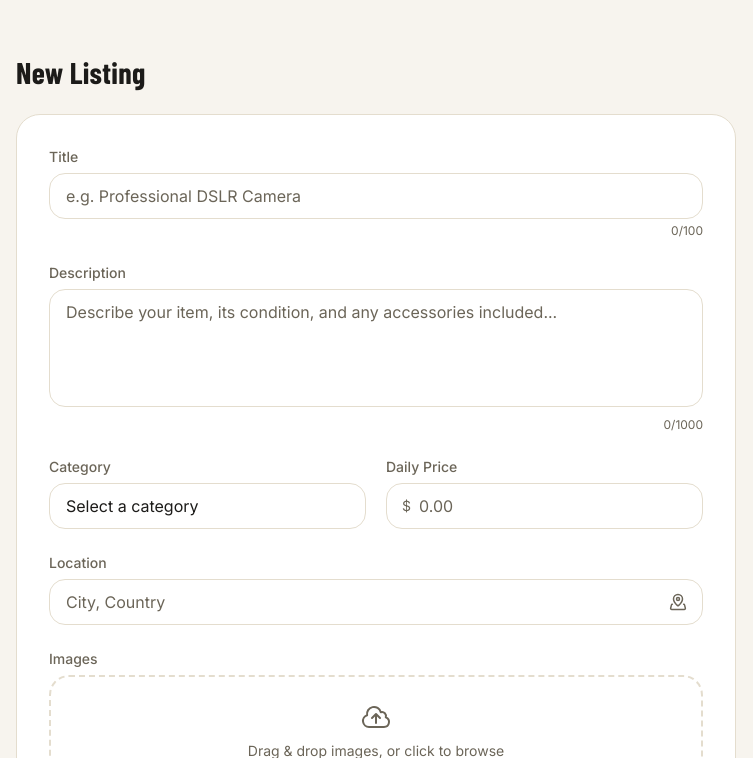
Test: NewListingPage › shows validation error when description is too short
Type "Valid Title Here" into the field labelled "Title" at [376, 196], box top-left (49, 173), bottom-right (703, 219)
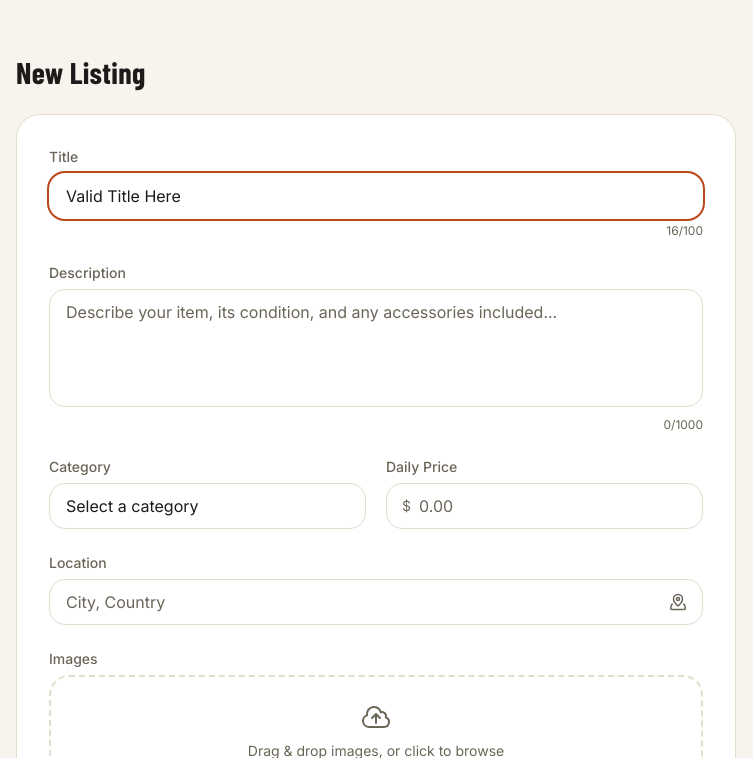
Type "Short" into the text box labelled "Description" at [376, 348], box top-left (49, 289), bottom-right (703, 407)
(page scrolled)
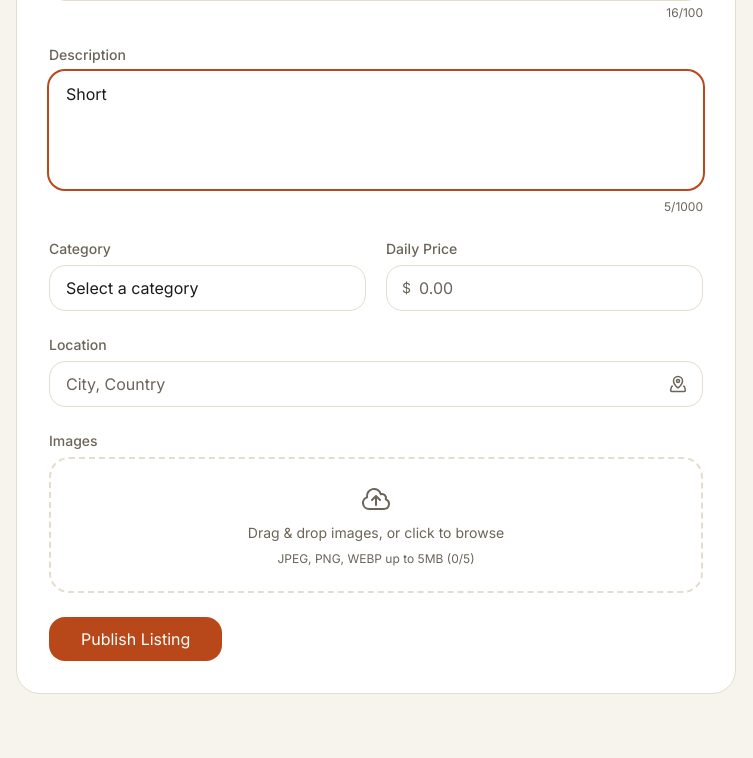
Click the button "Publish Listing" at [136, 639], box top-left (49, 617), bottom-right (222, 661)
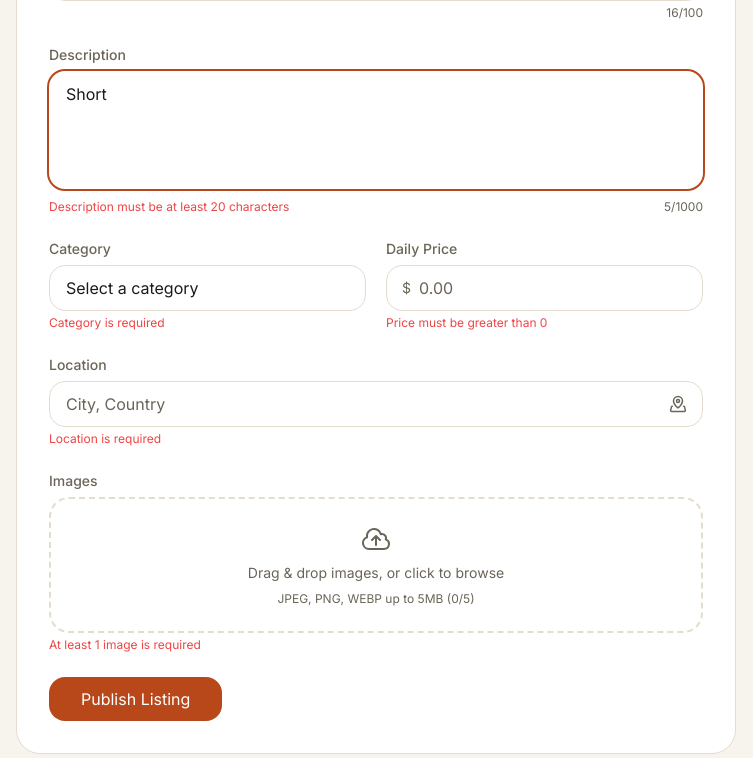
Expected: the text "Description must be at least 20 characters" is shown, top-left (49, 199), bottom-right (289, 215)
